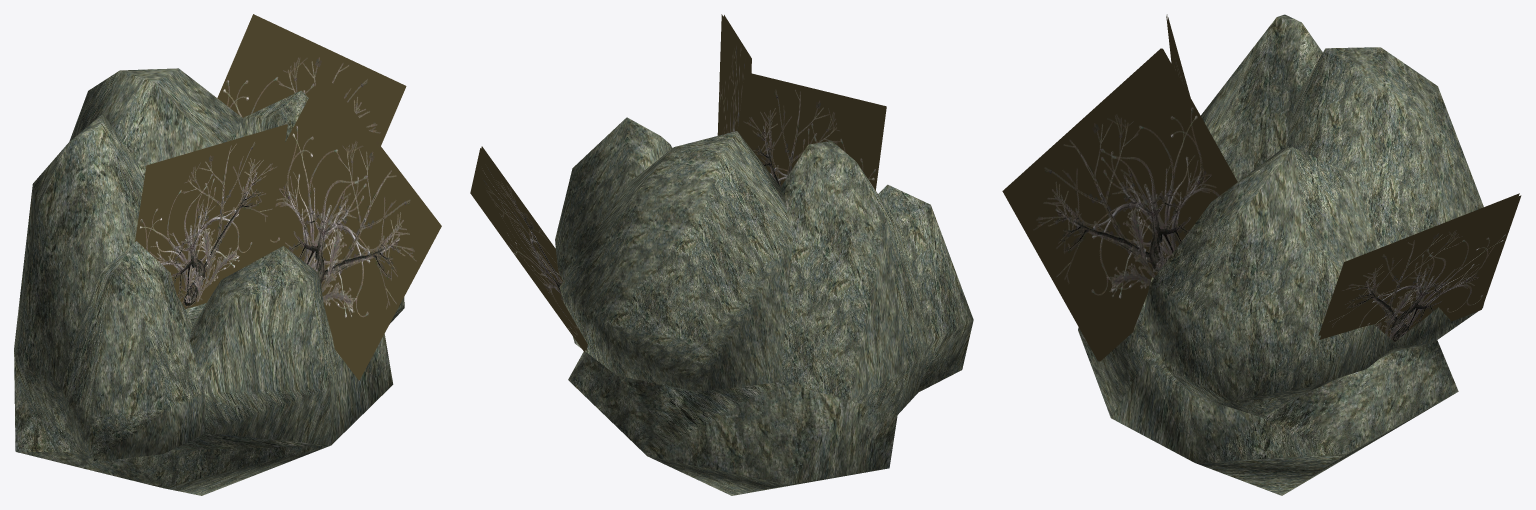
The model's file is poi_all_lair_rocks_small_l2.fbx.
3 renders of one model, left to right at view 1: azimuth 30°, elevation 25°; view 2: azimuth 150°, elevation 25°; view 3: azimuth 270°, elevation 25°, orthographic. The views are drawn at different scales.
Parts seen in each view (by area): view 1: mesh_node; view 2: mesh_node; view 3: mesh_node.
Boxes of the visible parts, x1,y1,x2,y2 form: mesh_node: [14, 14, 441, 495]; mesh_node: [470, 14, 973, 495]; mesh_node: [1002, 14, 1521, 495].
Bounding box in the file's own units: 3.1 × 3.17 × 3.09.
